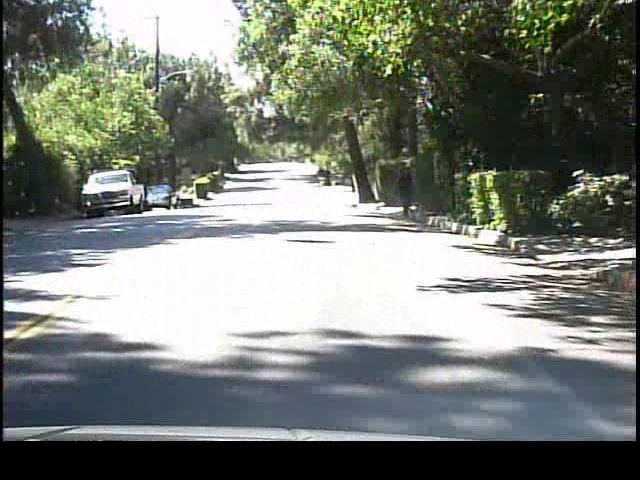person: (395, 161, 417, 219)
